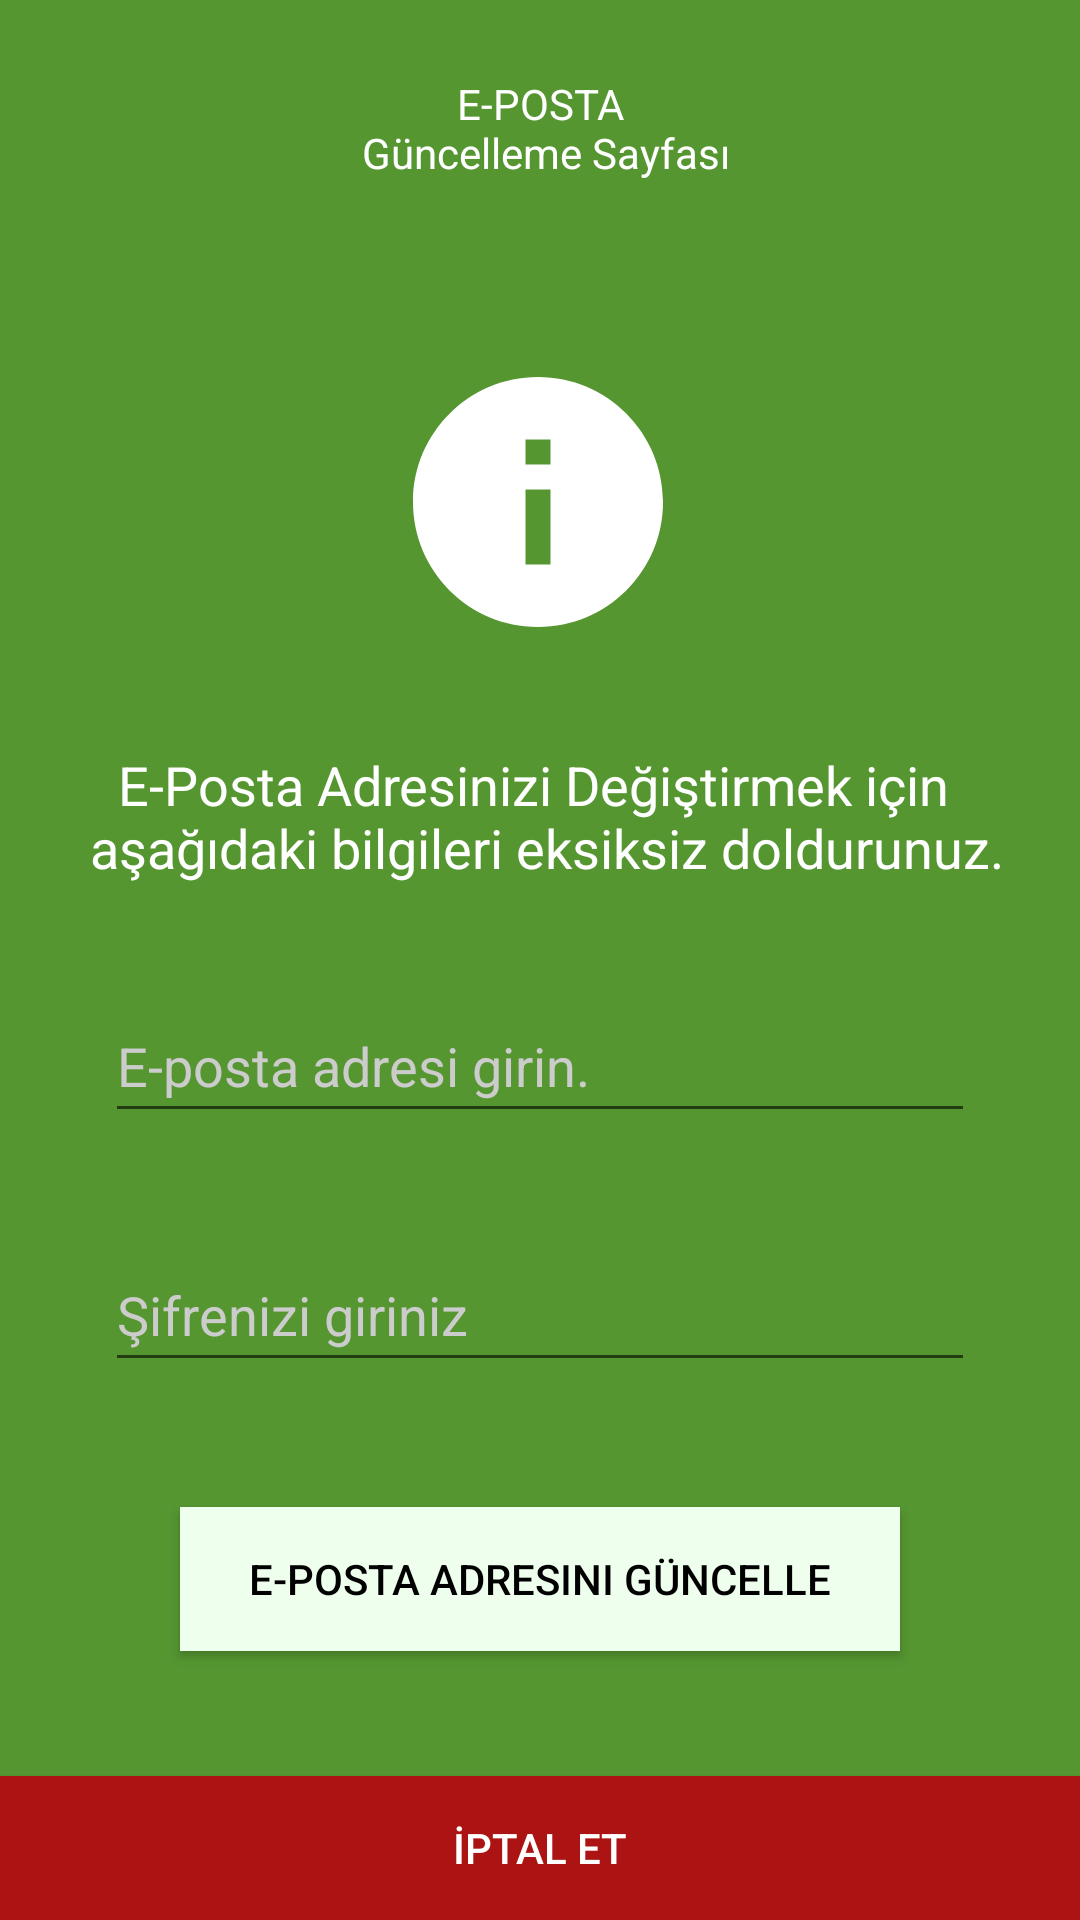

Icons on this 1080*1920 Android screen, each with the point to tap as [x,y]:
info: [538,502]
